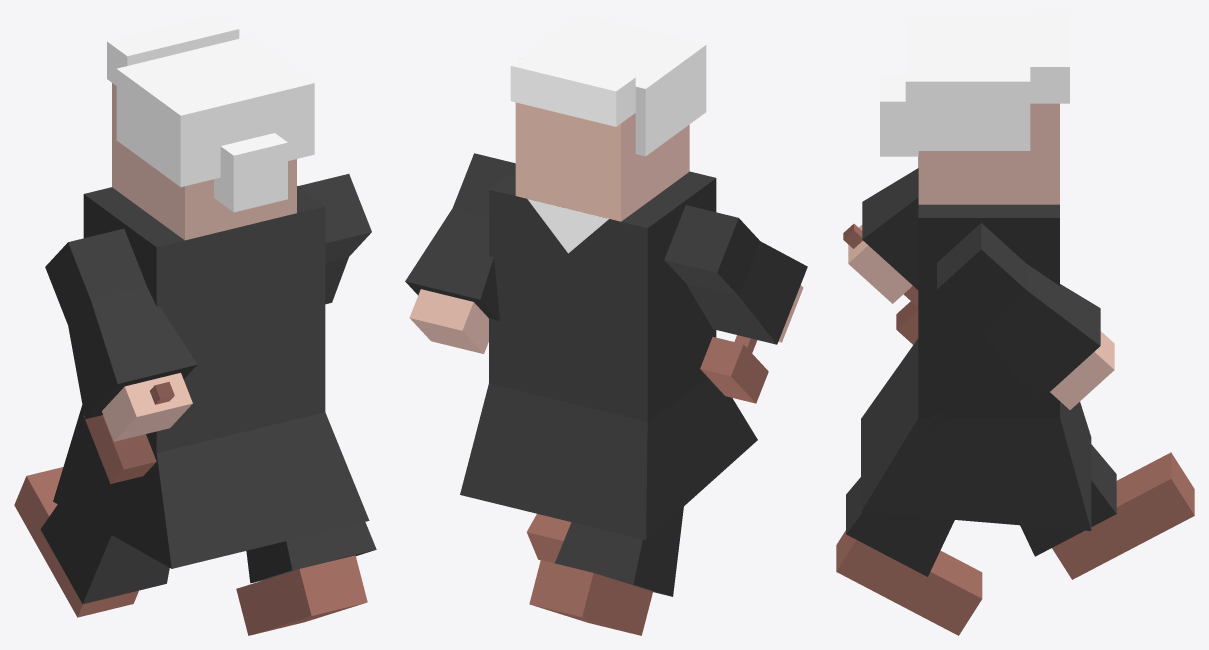
The model's file is sidewalk-judge-jump-1.glb.
The picture shows the model from 3 angles, left to right: view 1: azimuth 30°, elevation 25°; view 2: azimuth 150°, elevation 25°; view 3: azimuth 270°, elevation 25°; orthographic projection. The views are drawn at different scales.
Visible parts, largest first — view 1: UNIT.036, UNIT.038, UNIT.040, UNIT.039, UNIT.037; view 2: UNIT.036, UNIT.038, UNIT.040, UNIT.037, UNIT.039; view 3: UNIT.036, UNIT.037, UNIT.039, UNIT.040, UNIT.038.
Part boxes in pixels (bbox=[...]): UNIT.036: bbox=[53, 14, 369, 568]; UNIT.038: bbox=[45, 228, 197, 483]; UNIT.040: bbox=[14, 467, 169, 617]; UNIT.039: bbox=[236, 522, 376, 635]; UNIT.037: bbox=[298, 174, 371, 304]; UNIT.036: bbox=[460, 14, 757, 540]; UNIT.038: bbox=[664, 205, 807, 403]; UNIT.040: bbox=[529, 376, 687, 635]; UNIT.037: bbox=[405, 153, 515, 353]; UNIT.039: bbox=[527, 514, 571, 563]; UNIT.036: bbox=[861, 14, 1091, 530]; UNIT.037: bbox=[937, 223, 1114, 409]; UNIT.039: bbox=[836, 362, 990, 635]; UNIT.040: bbox=[1020, 444, 1194, 579]; UNIT.038: bbox=[843, 168, 918, 344].
Size of the model in its own units: 0.7592 by 1.36 by 0.7982.
1 material, 1 textured.
